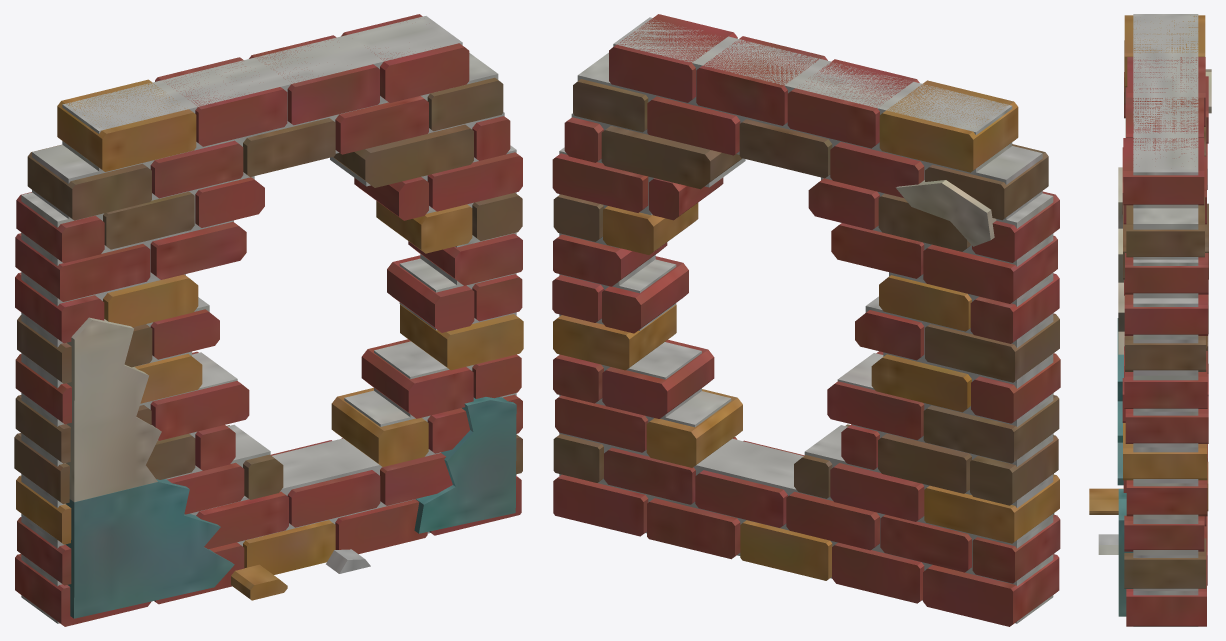
Rendered from D36_broken_wall_hole_edge.glb.
The picture shows the model from 3 angles, left to right: view 1: azimuth 30°, elevation 25°; view 2: azimuth 150°, elevation 25°; view 3: azimuth 270°, elevation 25°; orthographic projection. The views are drawn at different scales.
Parts seen in each view (by area): view 1: Broken wall hole edge; view 2: Broken wall hole edge; view 3: Broken wall hole edge.
Part boxes in pixels (bbox=[...]): Broken wall hole edge: bbox=[14, 14, 523, 626]; Broken wall hole edge: bbox=[552, 14, 1060, 626]; Broken wall hole edge: bbox=[1089, 14, 1211, 626].
Bounding box in the file's own units: 1.2 × 1.2 × 0.309.
Materials: 7 (7 with a texture image).
